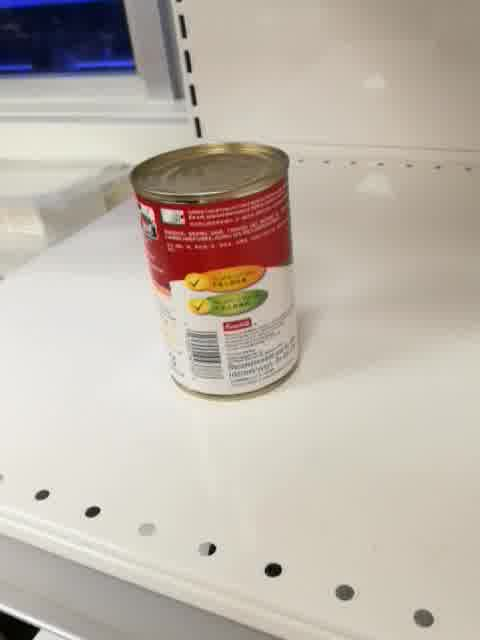tomatosoup: (128, 138, 304, 401)
